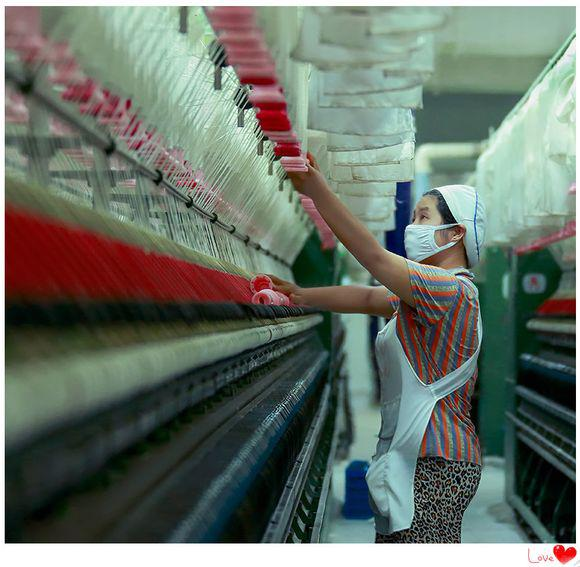OK: (400, 204, 458, 262)
